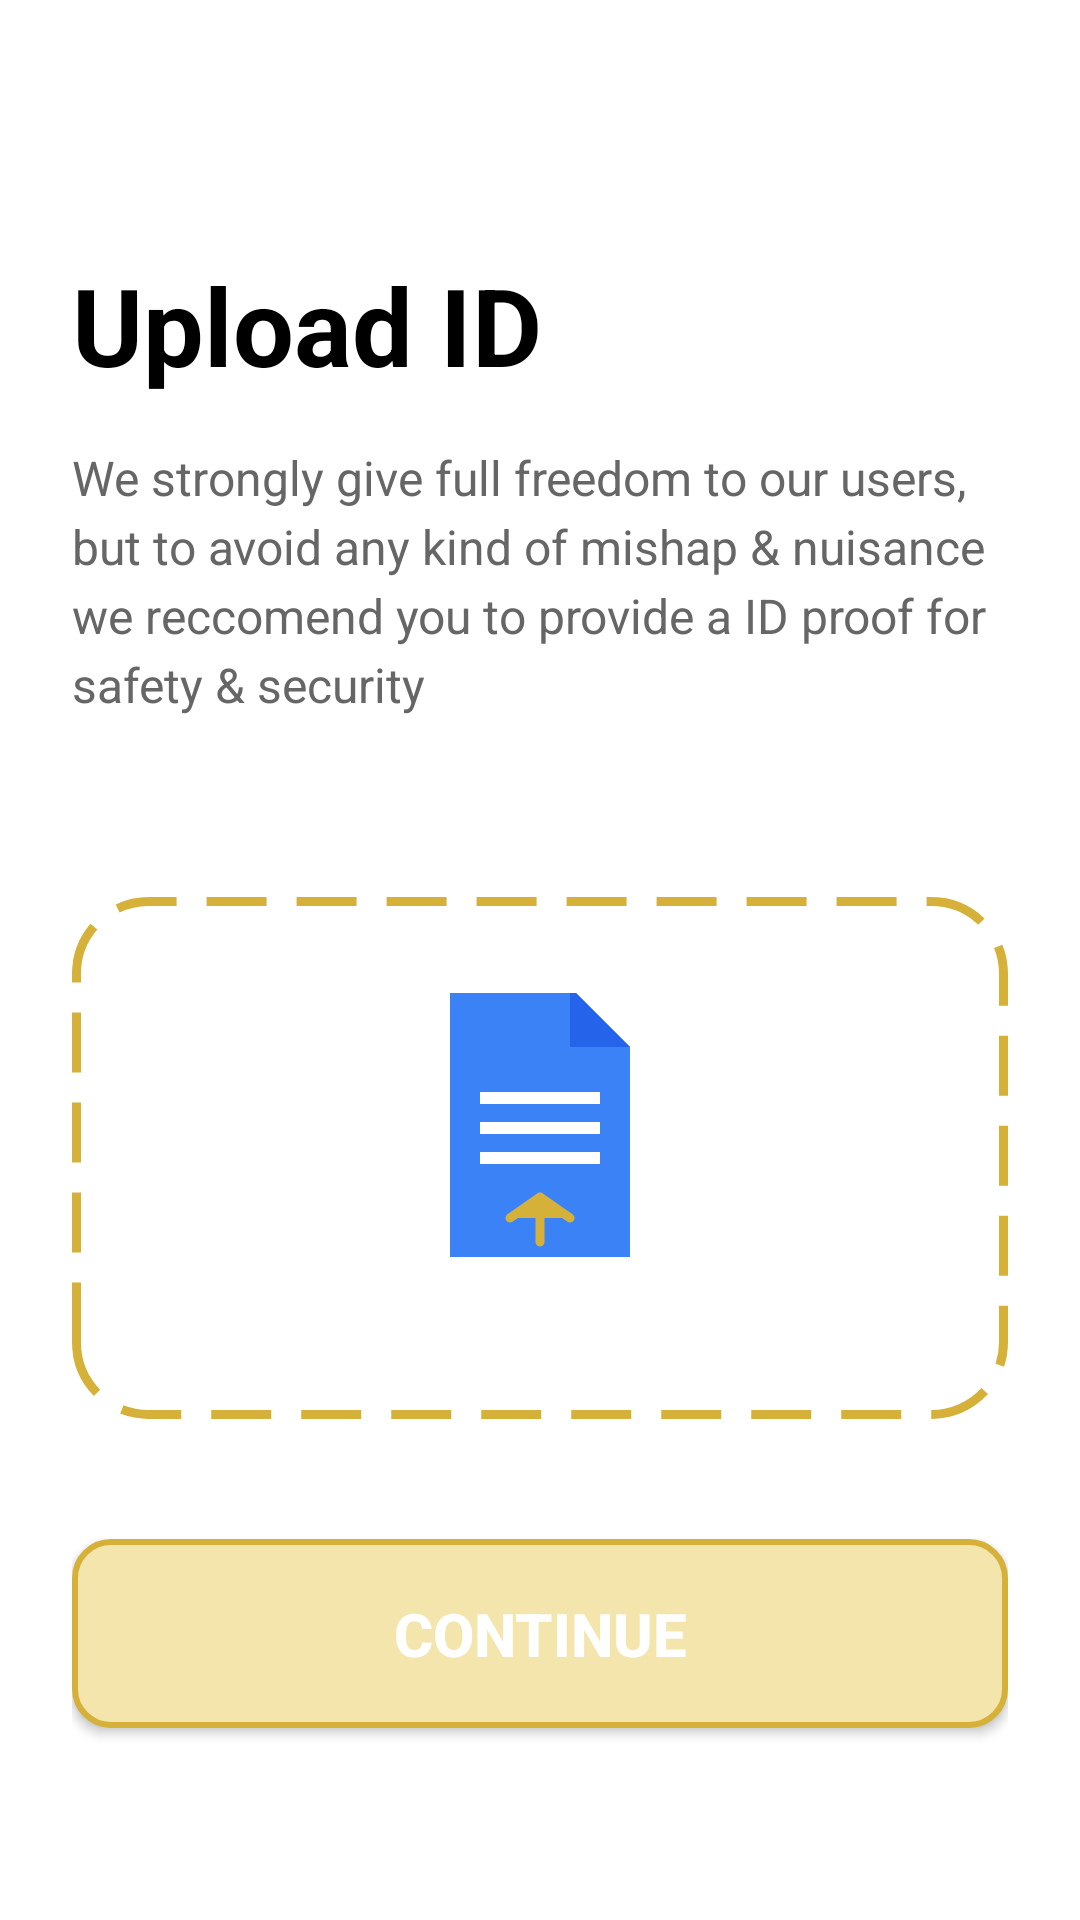

Icons on this 1080 × 1920 Android screen, each with the point to tap as (x,y):
Document Icon: (540,1125)
